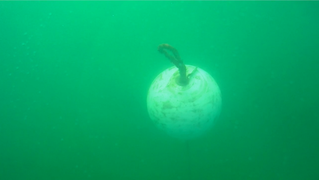buoy: (145, 63, 223, 142)
